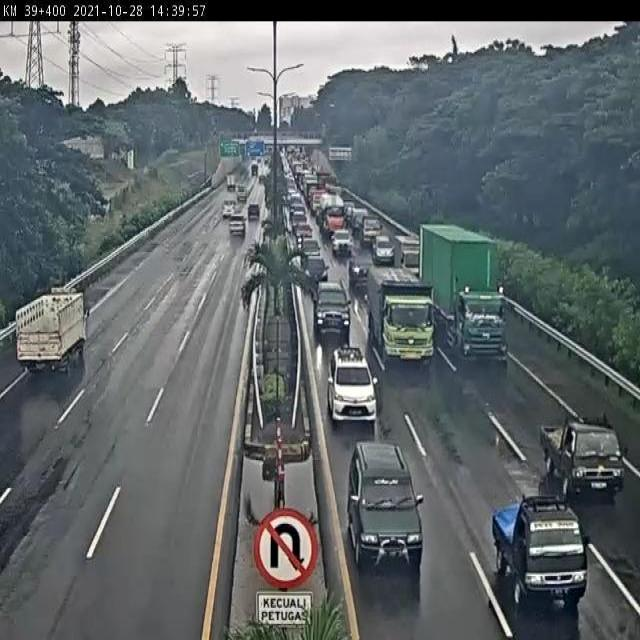ARABA: (491, 496, 586, 600), (349, 442, 423, 566), (542, 416, 625, 495), (329, 344, 378, 425), (311, 279, 349, 328), (347, 249, 371, 283), (302, 251, 326, 285), (359, 213, 381, 247), (372, 232, 394, 259), (332, 225, 351, 251)
KAMYONET: (9, 294, 86, 374), (393, 235, 421, 272)
TIR: (420, 227, 510, 361), (368, 265, 437, 355)
